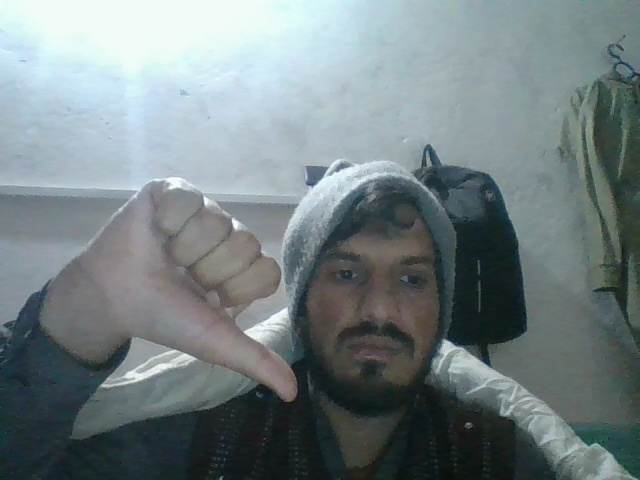ThumbsDown: (80, 176, 307, 405)
